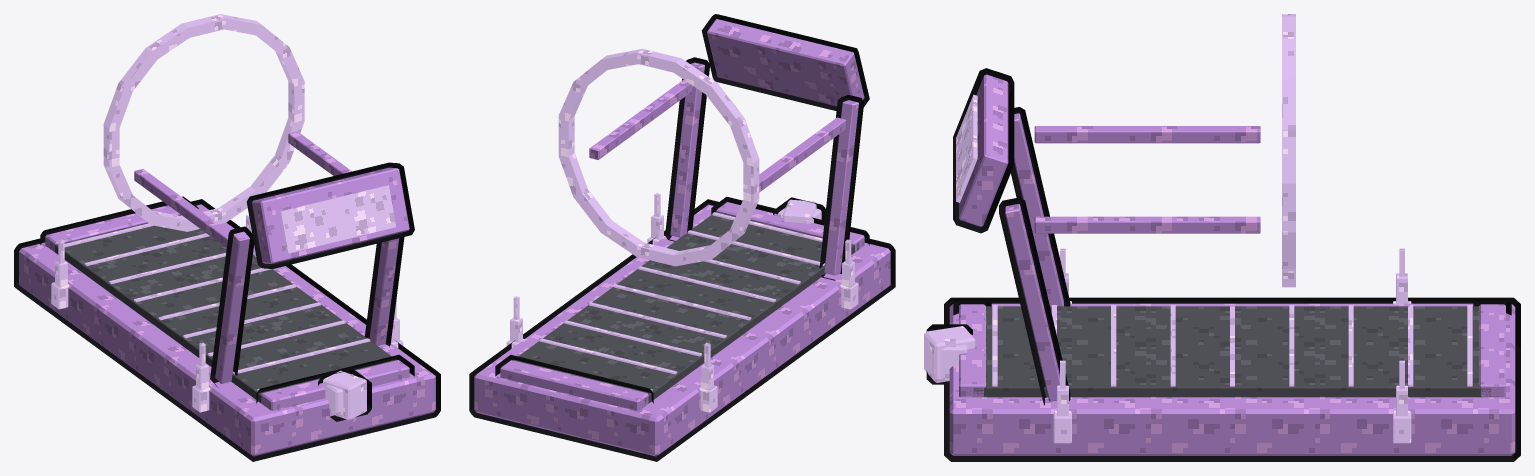
File: treadmill_08.glb
3 renders of one model, left to right at view 1: azimuth 30°, elevation 25°; view 2: azimuth 150°, elevation 25°; view 3: azimuth 270°, elevation 25°, orthographic. The views are drawn at different scales.
Visible parts, largest first — view 1: model; view 2: model; view 3: model.
Part boxes in pixels (x1=…): model: x1=14, y1=14, x2=440, y2=461; model: x1=469, y1=14, x2=895, y2=461; model: x1=924, y1=14, x2=1520, y2=461.
Size of the model in its own units: 1.33 by 1.96 by 2.79.
Materials: 4 (3 with a texture image).
